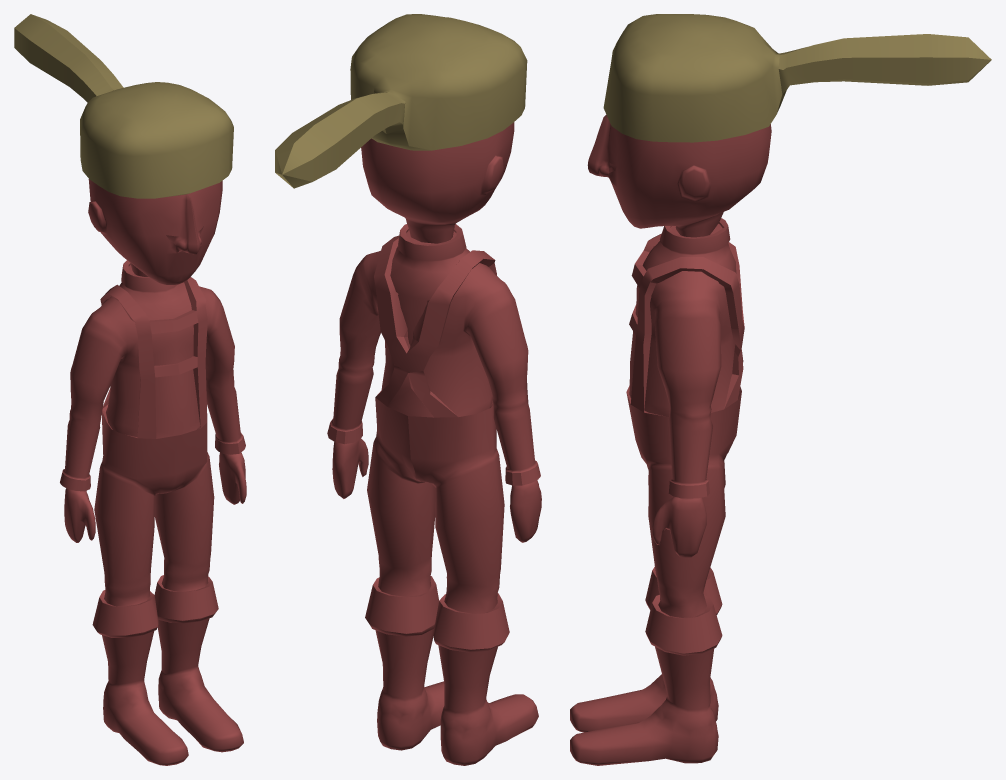
Rendered from mesh_player_uvdone.fbx.
3 renders of one model, left to right at view 1: azimuth 30°, elevation 25°; view 2: azimuth 150°, elevation 25°; view 3: azimuth 270°, elevation 25°, orthographic. The views are drawn at different scales.
Visible parts, largest first — view 1: Main_player_body, hat; view 2: Main_player_body, hat; view 3: Main_player_body, hat.
Part boxes in pixels (<box>): Main_player_body: <box>60,179,246,765</box>; hat: <box>14,14,233,198</box>; Main_player_body: <box>327,122,541,765</box>; hat: <box>275,14,527,188</box>; Main_player_body: <box>570,114,771,765</box>; hat: <box>603,14,991,142</box>.
Bounding box in the file's own units: 0.8361 × 2.77 × 1.48.
